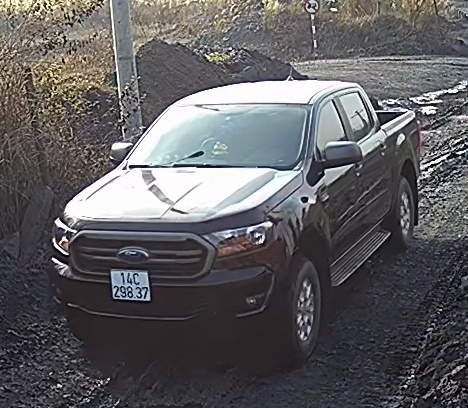vehicle plate: (105, 262, 155, 304)
